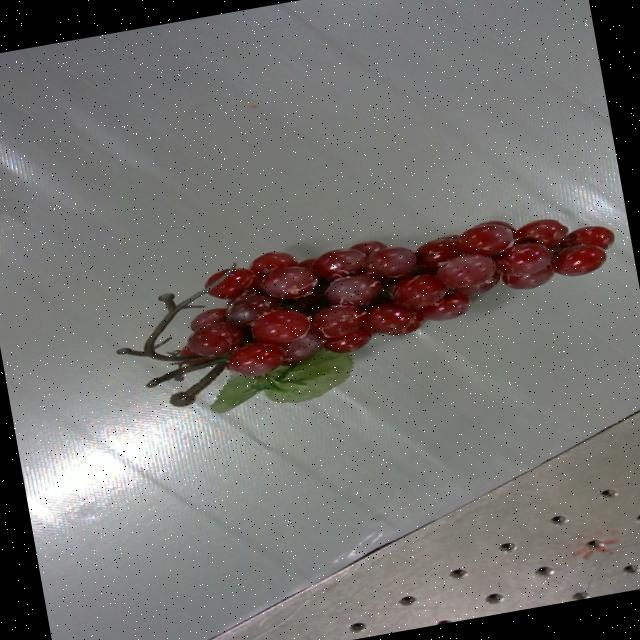grape: (117, 218, 613, 410)
